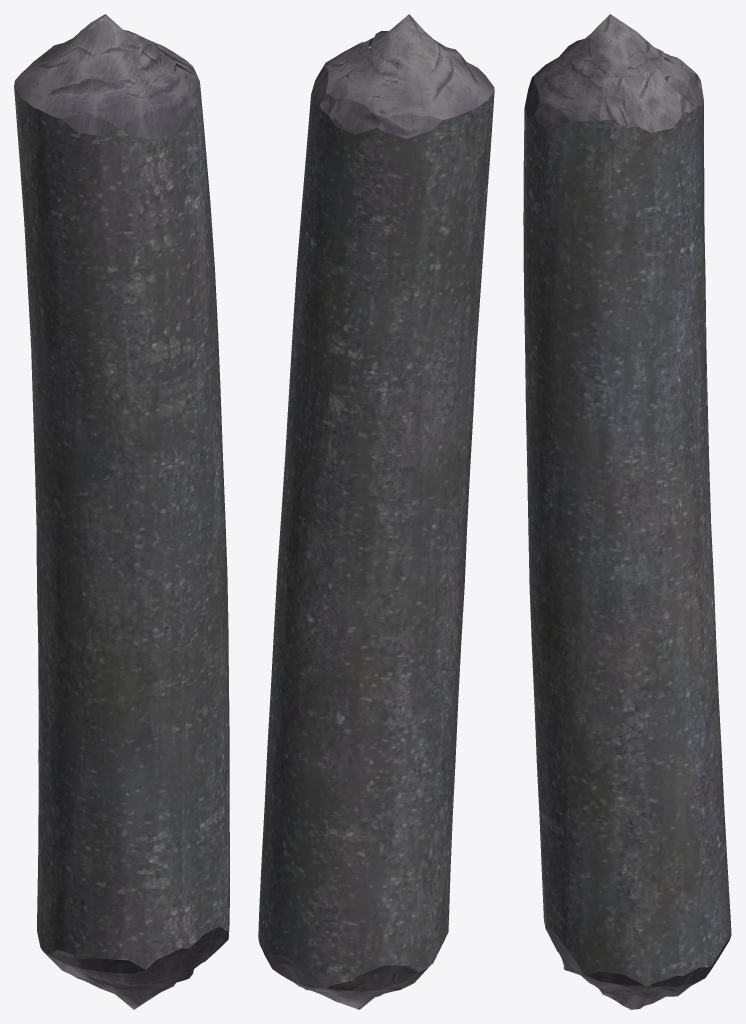
3 views of the same model, side by side, from view 1: azimuth 30°, elevation 25°; view 2: azimuth 150°, elevation 25°; view 3: azimuth 270°, elevation 25° (orthographic). The views are drawn at different scales.
Parts seen in each view (by area): view 1: SM_FH_Ash_Tree_01_quarter_03_LOD0; view 2: SM_FH_Ash_Tree_01_quarter_03_LOD0; view 3: SM_FH_Ash_Tree_01_quarter_03_LOD0.
Boxes of the visible parts, x1,y1,x2,y2 form: SM_FH_Ash_Tree_01_quarter_03_LOD0: (14,14,229,1009); SM_FH_Ash_Tree_01_quarter_03_LOD0: (258,14,494,1009); SM_FH_Ash_Tree_01_quarter_03_LOD0: (523,14,731,1009).
Bounding box in the file's own units: 0.5543 × 2.66 × 0.5135.
1 material, 1 textured.
